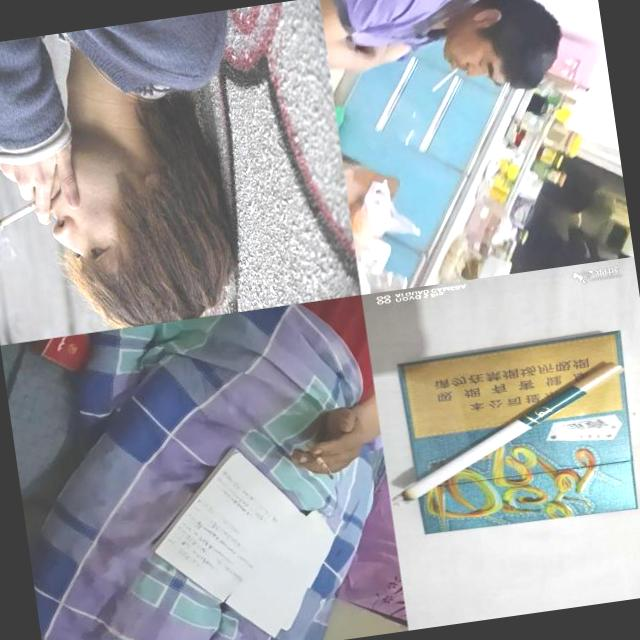smoke: (377, 359, 640, 508), (0, 195, 52, 230), (304, 437, 335, 483), (429, 66, 462, 92)
